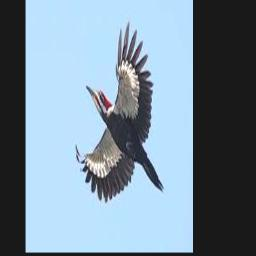Woodpecker: (75, 20, 164, 201)
